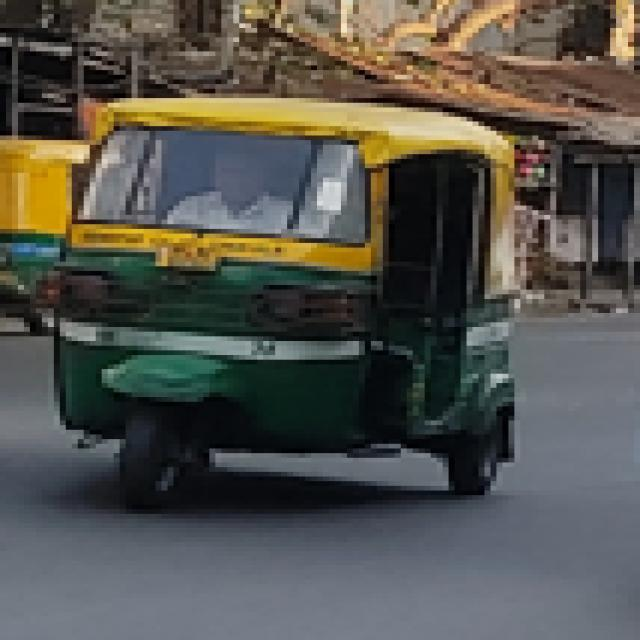autorickshaw: (36, 84, 526, 509)
